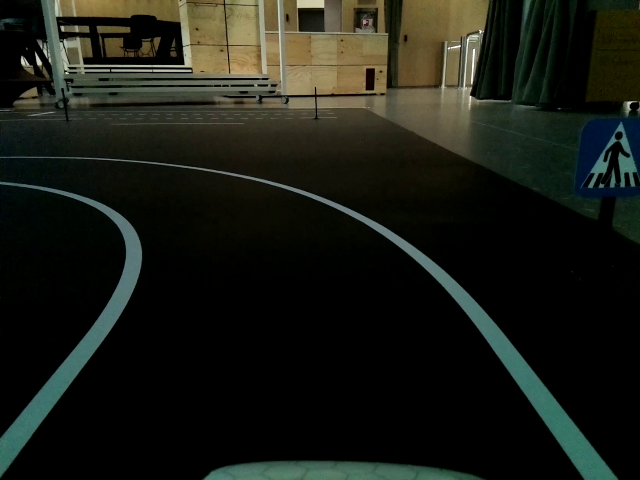pedestrians: (583, 123, 640, 194)
